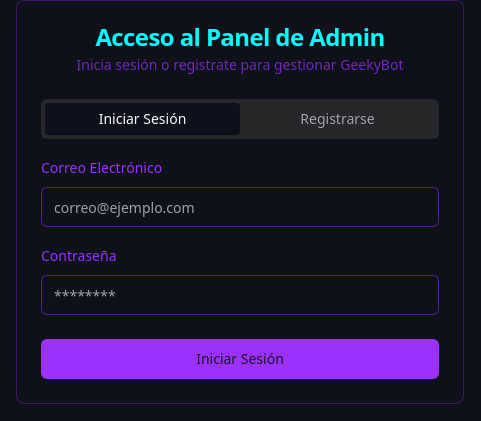
Scenario: AuthForm › switches between sign in and sign up tabs
Click the tab "Registrarse" at (338, 119), box [240,103,435,135]
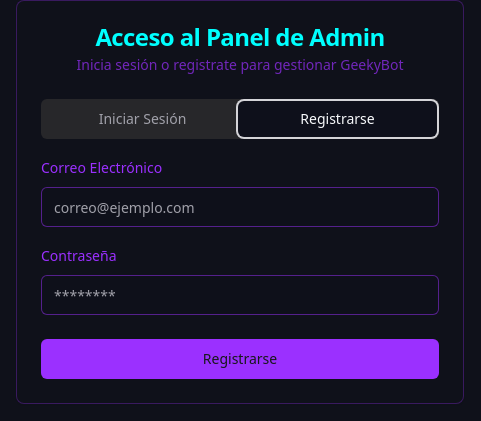
Expected: the button "Registrarse" is shown, [41,339,439,379]
